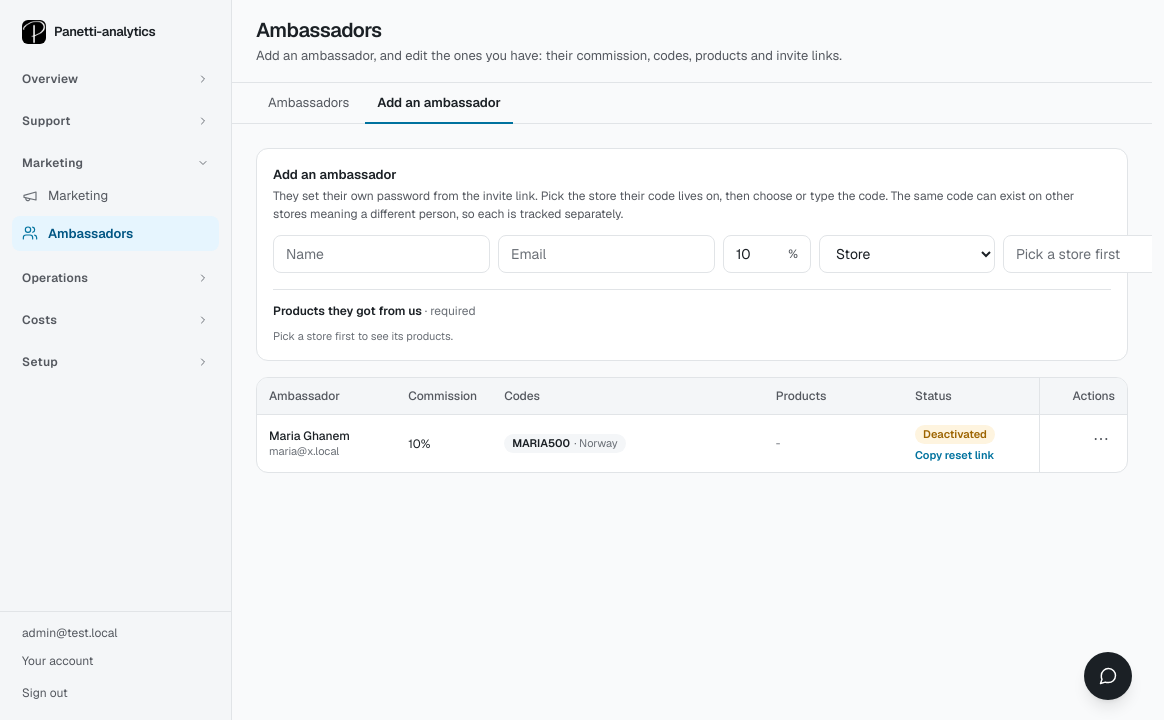
the row menu › offers Reactivate, not Deactivate, for someone switched off
Expected: the text "Deactivated" is shown, [915, 425, 995, 444]
What coordinates should you click on to do the following:
click the button named "Actions for Maria Ghanem"
I would click on:
 (1101, 439)
Its box is [1087, 425, 1115, 453].
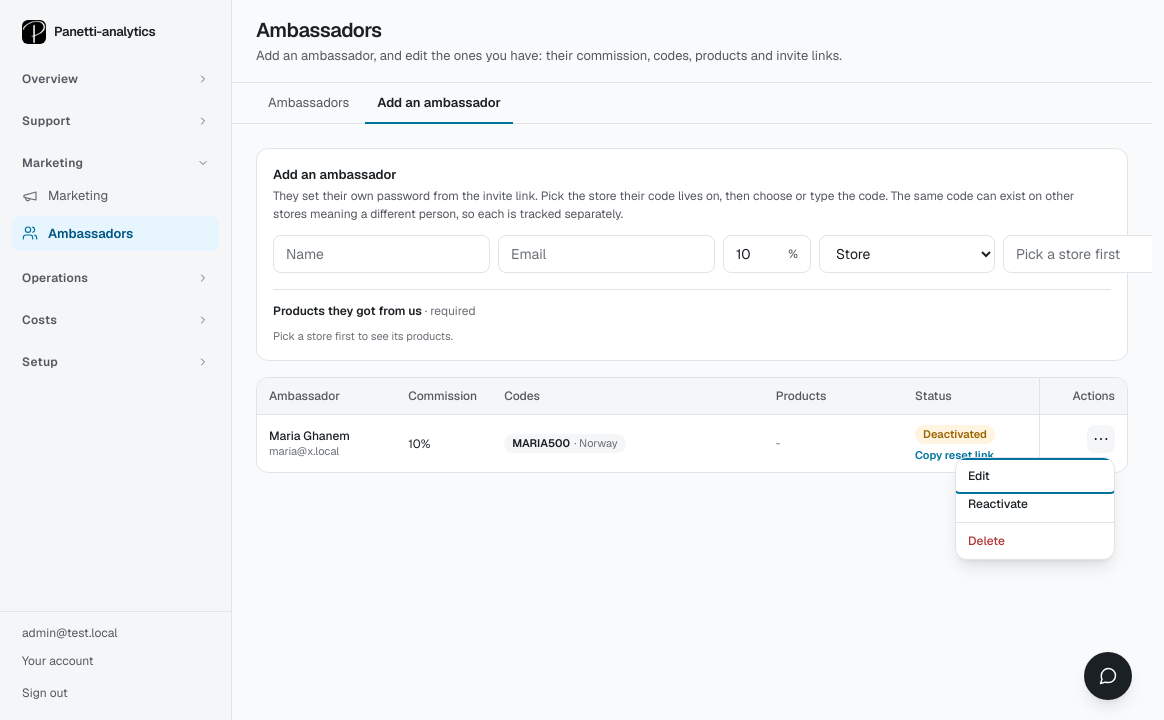
Expected: the menu item "Reactivate" is shown, [956, 490, 1114, 518]
